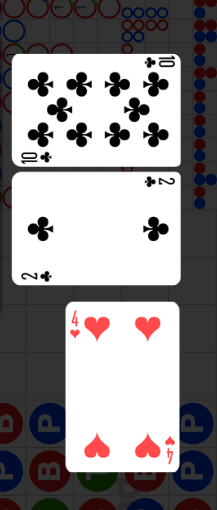10C: (18, 150, 53, 165)
4H: (162, 435, 175, 466), (68, 310, 81, 341)
